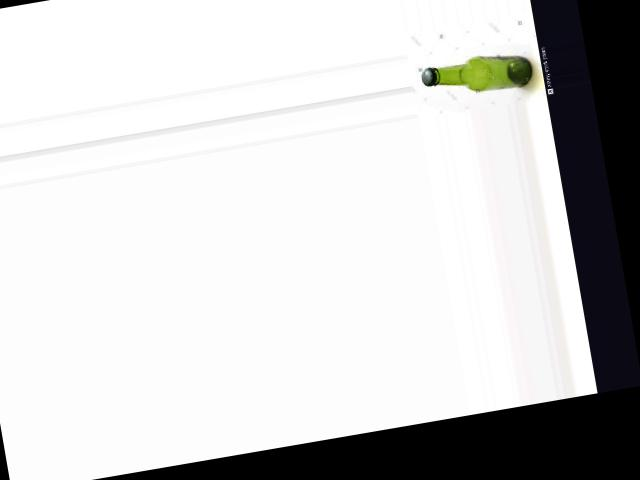beer: (419, 50, 534, 102)
